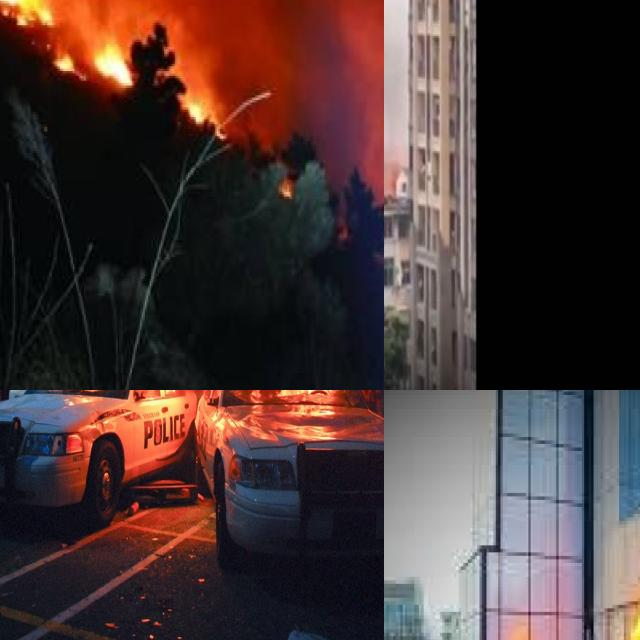fire: (54, 11, 132, 95), (183, 81, 217, 134), (0, 0, 50, 32)
smoke: (0, 0, 384, 298), (384, 0, 399, 189)
